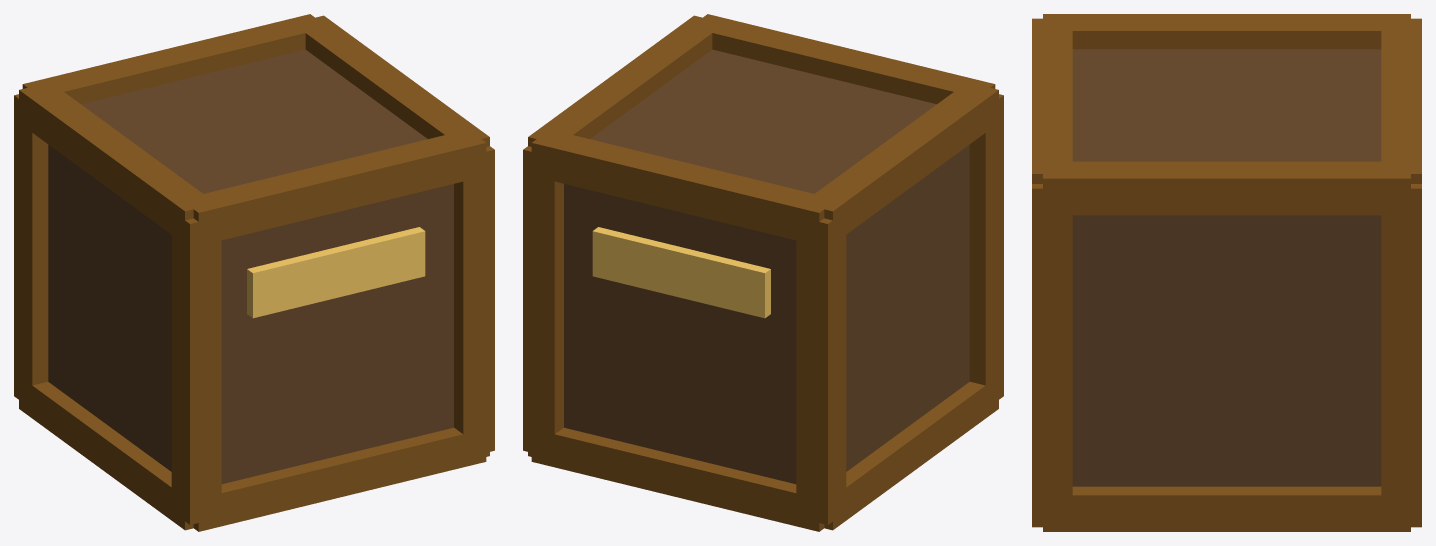
File: crate.glb
3 views of the same model, side by side, from view 1: azimuth 30°, elevation 25°; view 2: azimuth 150°, elevation 25°; view 3: azimuth 270°, elevation 25° (orthographic). The views are drawn at different scales.
Visible parts, largest first — view 1: crate_Body; view 2: crate_Body; view 3: crate_Body.
Part boxes in pixels (<box>): crate_Body: <box>14,14,494,531</box>; crate_Body: <box>523,14,1003,531</box>; crate_Body: <box>1032,14,1421,531</box>.
Size of the model in its own units: 2.12 by 2.12 by 2.12.
